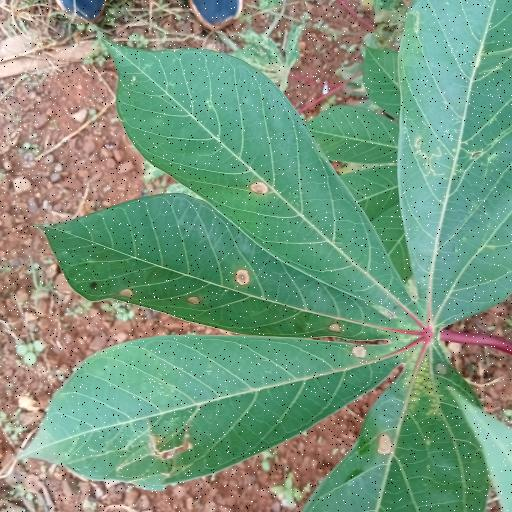Cassava_Brown_Leaf_Spot: (15, 7, 512, 512)
